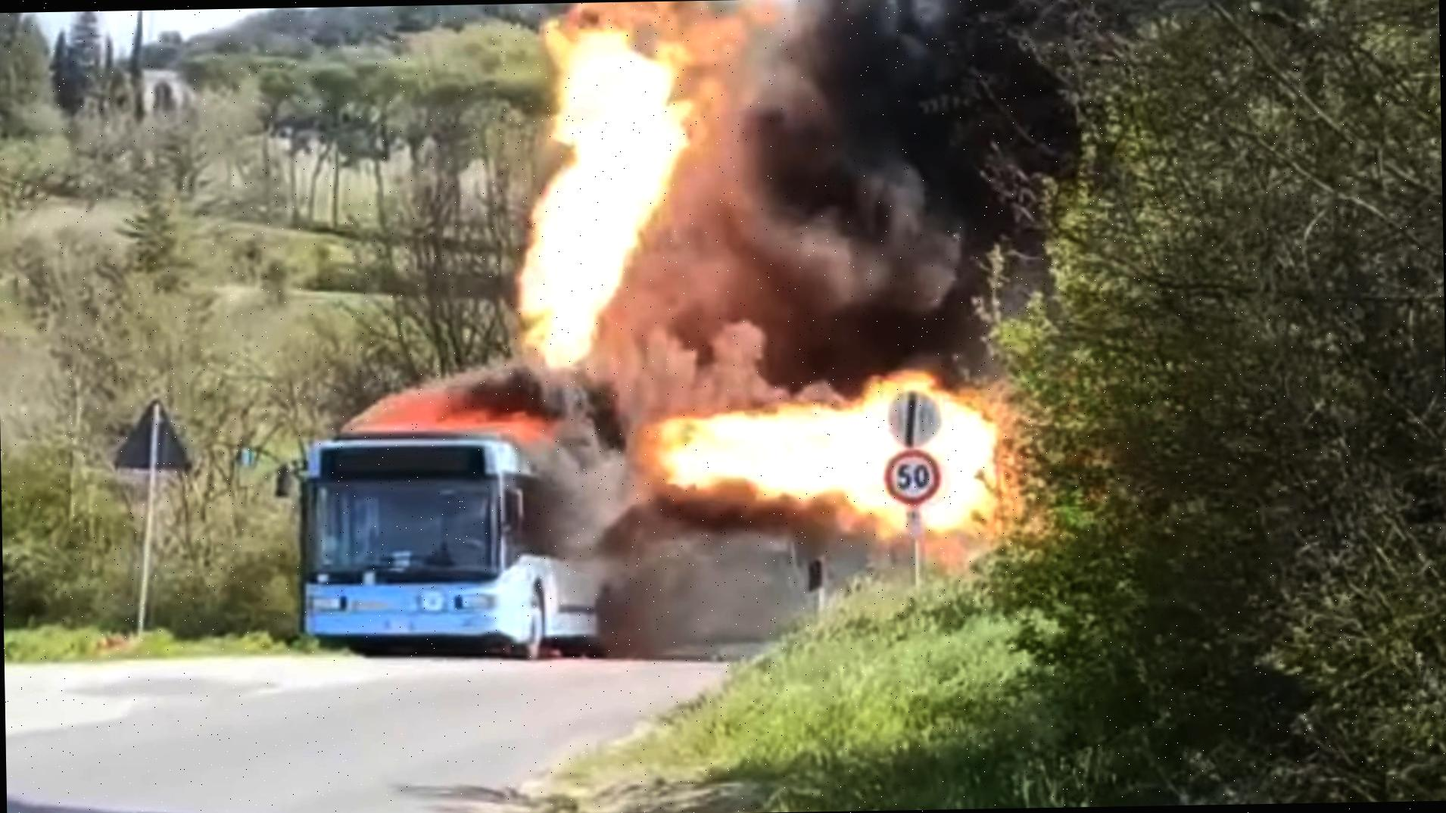fire: (652, 403, 1043, 550)
smoke: (673, 2, 1277, 388)
